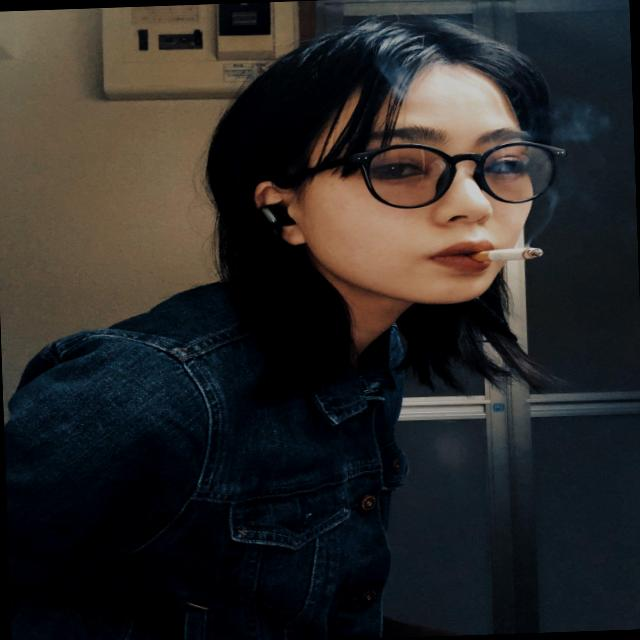smoke: (439, 230, 558, 280)
